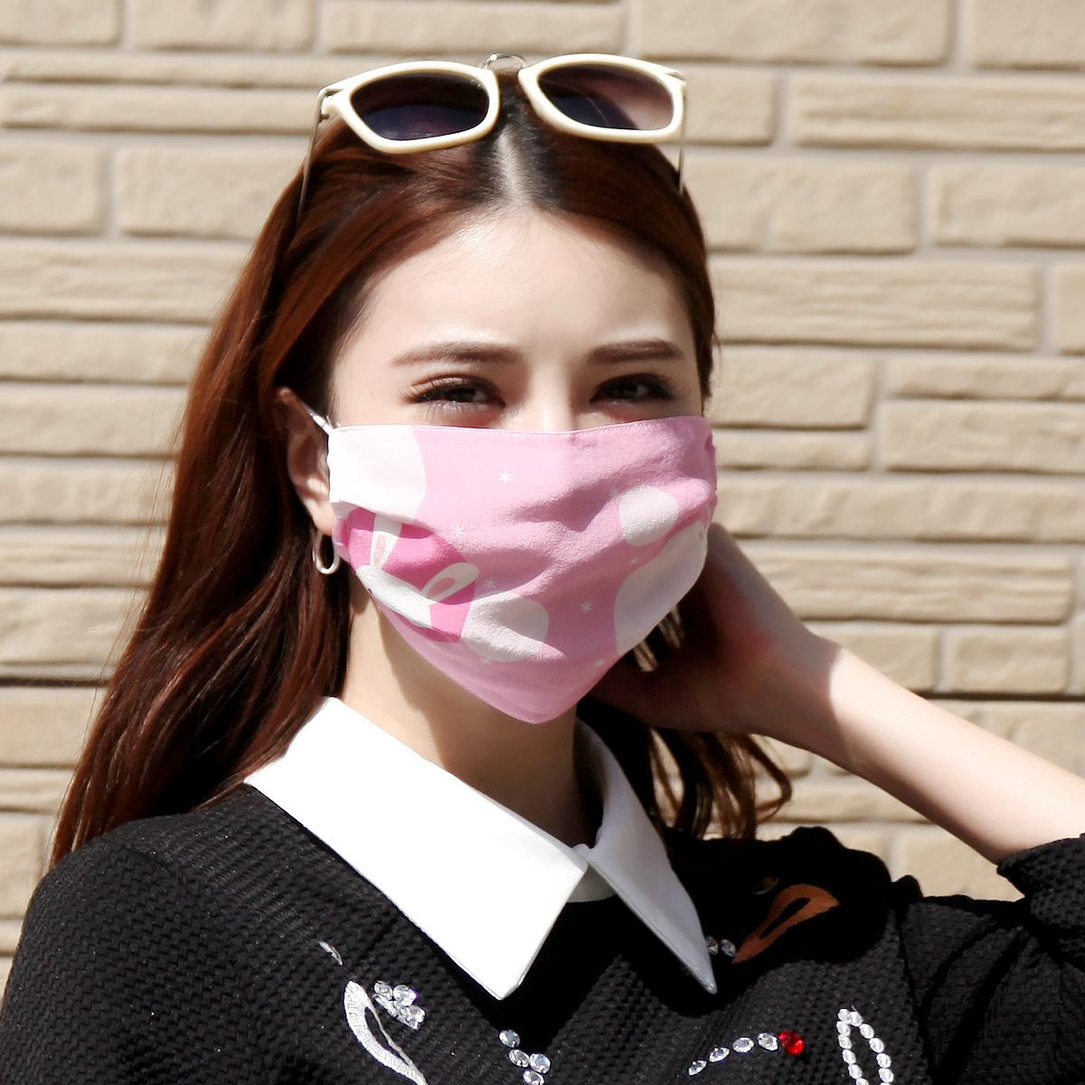OK: (328, 300, 721, 693)
